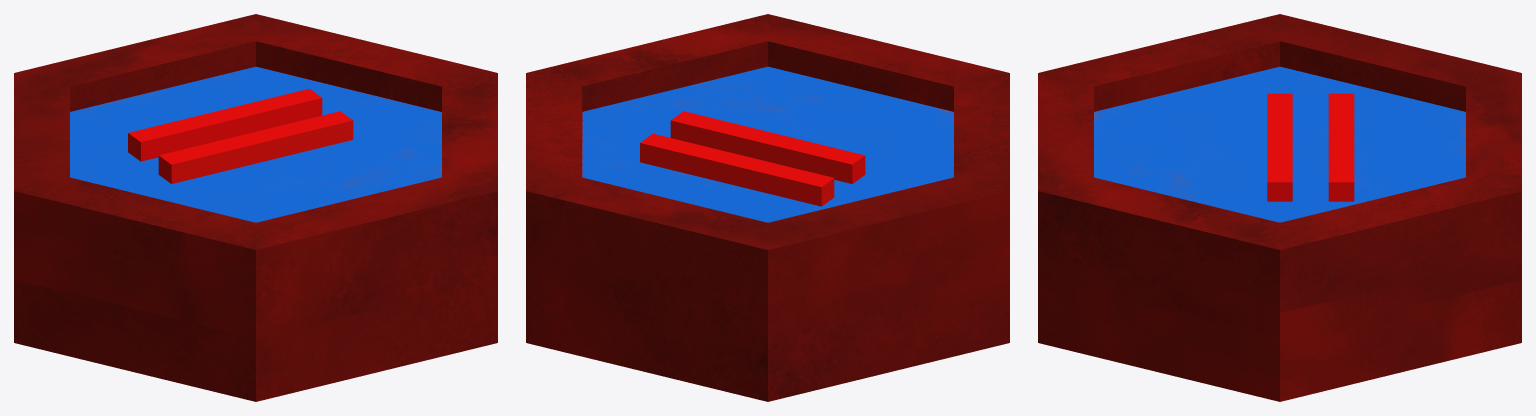
Rendered from Double.FBX.
3 renders of one model, left to right at view 1: azimuth 30°, elevation 25°; view 2: azimuth 150°, elevation 25°; view 3: azimuth 270°, elevation 25°, orthographic.
Parts seen in each view (by area): view 1: Cylinder023; view 2: Cylinder023; view 3: Cylinder023.
Part boxes in pixels (x1,y1,x2,y2): Cylinder023: (14, 14, 497, 401); Cylinder023: (526, 14, 1009, 401); Cylinder023: (1038, 14, 1521, 401).
Size of the model in its own units: 20 by 17.32 by 6.
